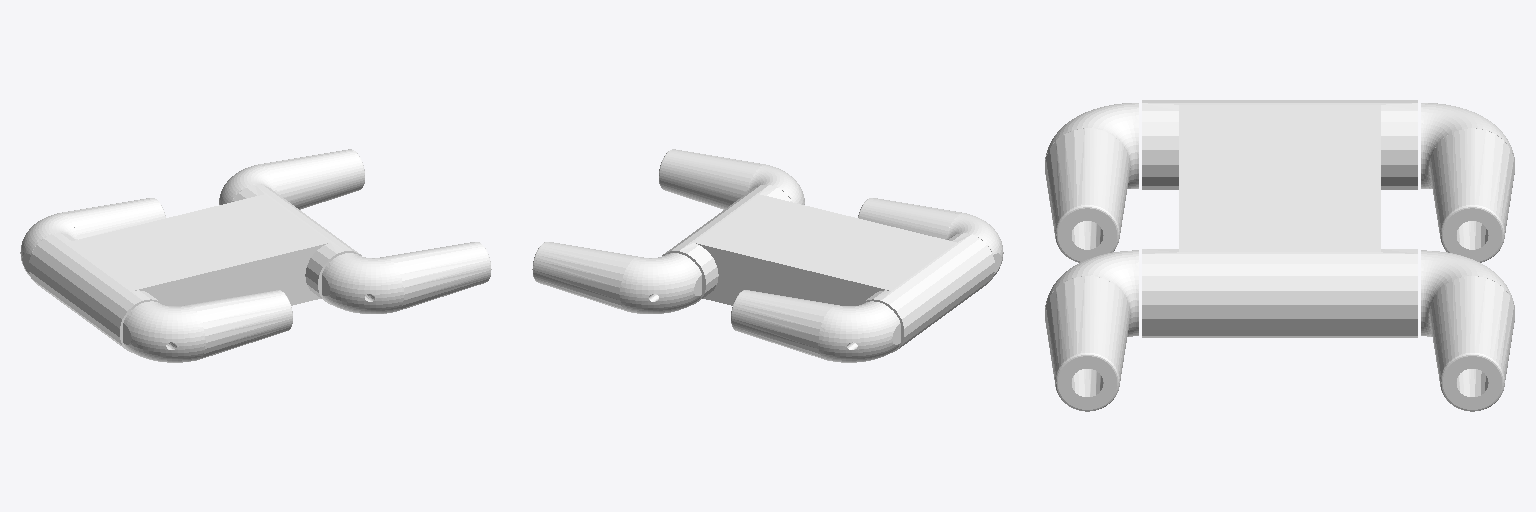
The robot description file, URDF, robot "0_degree":
<?xml version="1.0" encoding="utf-8"?>
<!-- This URDF was automatically created by SolidWorks to URDF Exporter! Originally created by [author] ([email redacted]) 
     Commit Version: 1.5.1-0-g916b5db  Build Version: 1.5.7152.31018
     For more information, please see http://wiki.ros.org/sw_urdf_exporter -->
<robot
  name="0_degree">
  <link
    name="base_link">
    <inertial>
      <origin
        xyz="0 -2.7756E-16 -1.7347E-18"
        rpy="0 0 0" />
      <mass
        value="2.942" />
      <inertia
        ixx="0.0110074"
        ixy="-1.0323E-18"
        ixz="3.6997E-20"
        iyy="0.0362243"
        iyz="6.0172E-20"
        izz="0.0446136" />
    </inertial>
    <visual>
      <origin
        xyz="0 0 0"
        rpy="0 0 0" />
      <geometry>
        <mesh
          filename="package://0_degree/meshes/base_link.STL" />
      </geometry>
      <material
        name="">
        <color
          rgba="1 1 1 1" />
      </material>
    </visual>
    <collision>
      <origin
        xyz="0 0 0"
        rpy="0 0 0" />
      <geometry>
        <mesh
          filename="package://0_degree/meshes/base_link.STL" />
      </geometry>
    </collision>
  </link>
  <link
    name="left_front_link">
    <inertial>
      <origin
        xyz="-2.0031E-08 0.05683 -0.036011"
        rpy="0 0 0" />
      <mass
        value="0.095" />
      <inertia
        ixx="0.0002672"
        ixy="8.3094E-10"
        ixz="4.6217E-10"
        iyy="0.0000540"
        iyz="2.33E-05"
        izz="0.0002642" />
    </inertial>
    <visual>
      <origin
        xyz="0 0 0"
        rpy="0 0 0" />
      <geometry>
        <mesh
          filename="package://0_degree/meshes/left_front_link.STL" />
      </geometry>
      <material
        name="">
        <color
          rgba="1 1 1 1" />
      </material>
    </visual>
    <collision>
      <origin
        xyz="0 0 0"
        rpy="0 0 0" />
      <geometry>
        <mesh
          filename="package://0_degree/meshes/left_front_link.STL" />
      </geometry>
    </collision>
  </link>
  <joint
    name="left_front_leg"
    type="continuous">
    <origin
      xyz="0.13 0.103 0"
      rpy="1.5708 1.5708 0" />
    <parent
      link="base_link" />
    <child
      link="left_front_link" />
    <axis
      xyz="0 0 -1" />
    <limit
      effort="5"
      velocity="487" />
  </joint>
  <link
    name="right_front_link">
    <inertial>
      <origin
        xyz="2.0031E-08 0.05683 0.036011"
        rpy="0 0 0" />
      <mass
        value="0.095" />
      <inertia
        ixx="0.0002672"
        ixy="-8.3094E-10"
        ixz="4.6217E-10"
        iyy="0.0000540"
        iyz="-2.33E-05"
        izz="0.0002642" />
    </inertial>
    <visual>
      <origin
        xyz="0 0 0"
        rpy="0 0 0" />
      <geometry>
        <mesh
          filename="package://0_degree/meshes/right_front_link.STL" />
      </geometry>
      <material
        name="">
        <color
          rgba="1 1 1 1" />
      </material>
    </visual>
    <collision>
      <origin
        xyz="0 0 0"
        rpy="0 0 0" />
      <geometry>
        <mesh
          filename="package://0_degree/meshes/right_front_link.STL" />
      </geometry>
    </collision>
  </link>
  <joint
    name="right_front_leg"
    type="continuous">
    <origin
      xyz="0.13 -0.103 0"
      rpy="1.5708 1.5708 0" />
    <parent
      link="base_link" />
    <child
      link="right_front_link" />
    <axis
      xyz="0 0 1" />
    <limit
      effort="5"
      velocity="487" />
  </joint>
  <link
    name="right_back_link">
    <inertial>
      <origin
        xyz="2.0031E-08 0.05683 0.036011"
        rpy="0 0 0" />
      <mass
        value="0.095" />
      <inertia
        ixx="0.0002672"
        ixy="-8.3094E-10"
        ixz="4.6217E-10"
        iyy="0.0000540"
        iyz="-2.33E-05"
        izz="0.0002642" />
    </inertial>
    <visual>
      <origin
        xyz="0 0 0"
        rpy="0 0 0" />
      <geometry>
        <mesh
          filename="package://0_degree/meshes/right_back_link.STL" />
      </geometry>
      <material
        name="">
        <color
          rgba="1 1 1 1" />
      </material>
    </visual>
    <collision>
      <origin
        xyz="0 0 0"
        rpy="0 0 0" />
      <geometry>
        <mesh
          filename="package://0_degree/meshes/right_back_link.STL" />
      </geometry>
    </collision>
  </link>
  <joint
    name="right_back_leg"
    type="continuous">
    <origin
      xyz="-0.13 -0.103 0"
      rpy="1.5708 1.5708 0" />
    <parent
      link="base_link" />
    <child
      link="right_back_link" />
    <axis
      xyz="0 0 1" />
    <limit
      effort="5"
      velocity="487" />
  </joint>
  <link
    name="left_back_link">
    <inertial>
      <origin
        xyz="-2.0031E-08 0.05683 -0.036011"
        rpy="0 0 0" />
      <mass
        value="0.095" />
      <inertia
        ixx="0.0002672"
        ixy="8.3094E-10"
        ixz="4.6217E-10"
        iyy="0.0000540"
        iyz="2.33E-05"
        izz="0.0002642" />
    </inertial>
    <visual>
      <origin
        xyz="0 0 0"
        rpy="0 0 0" />
      <geometry>
        <mesh
          filename="package://0_degree/meshes/left_back_link.STL" />
      </geometry>
      <material
        name="">
        <color
          rgba="1 1 1 1" />
      </material>
    </visual>
    <collision>
      <origin
        xyz="0 0 0"
        rpy="0 0 0" />
      <geometry>
        <mesh
          filename="package://0_degree/meshes/left_back_link.STL" />
      </geometry>
    </collision>
  </link>
  <joint
    name="left_back_leg"
    type="continuous">
    <origin
      xyz="-0.13 0.103 0"
      rpy="1.5708 1.5708 0" />
    <parent
      link="base_link" />
    <child
      link="left_back_link" />
    <axis
      xyz="0 0 -1" />
    <limit
      effort="5"
      velocity="487" />
  </joint>
</robot>

--- What the picture shows (computed from the rendered views, not written in the file) ---
Views: 3 orthographic renders of the robot side by side, from view 1: azimuth 30°, elevation 25°; view 2: azimuth 150°, elevation 25°; view 3: azimuth 270°, elevation 25°.
Model 0_degree with 5 links and 4 joints (4 continuous), rooted at base_link, posed every joint at zero.
Visible links, largest first — view 1: base_link, right_back_link, right_front_link, left_front_link, left_back_link; view 2: base_link, left_back_link, left_front_link, right_front_link, right_back_link; view 3: base_link, right_front_link, left_front_link, right_back_link, left_back_link.
Link boxes in pixels (x1=…): base_link: x1=29, y1=185, x2=361, y2=352; right_back_link: x1=123, y1=290, x2=292, y2=362; right_front_link: x1=322, y1=242, x2=491, y2=313; left_front_link: x1=219, y1=149, x2=364, y2=209; left_back_link: x1=20, y1=198, x2=165, y2=276; base_link: x1=662, y1=185, x2=994, y2=352; left_back_link: x1=731, y1=290, x2=900, y2=362; left_front_link: x1=532, y1=242, x2=701, y2=313; right_front_link: x1=659, y1=149, x2=804, y2=209; right_back_link: x1=858, y1=198, x2=1003, y2=276; base_link: x1=1142, y1=100, x2=1417, y2=337; right_front_link: x1=1045, y1=250, x2=1138, y2=411; left_front_link: x1=1421, y1=250, x2=1514, y2=411; right_back_link: x1=1045, y1=103, x2=1138, y2=262; left_back_link: x1=1421, y1=103, x2=1514, y2=262.
Bounding box of the posed robot: 0.4511 × 0.3504 × 0.0672 m (x, y, z).
Meshes: 5 distinct files referenced, 5 mesh visuals loaded (5 binary STL).